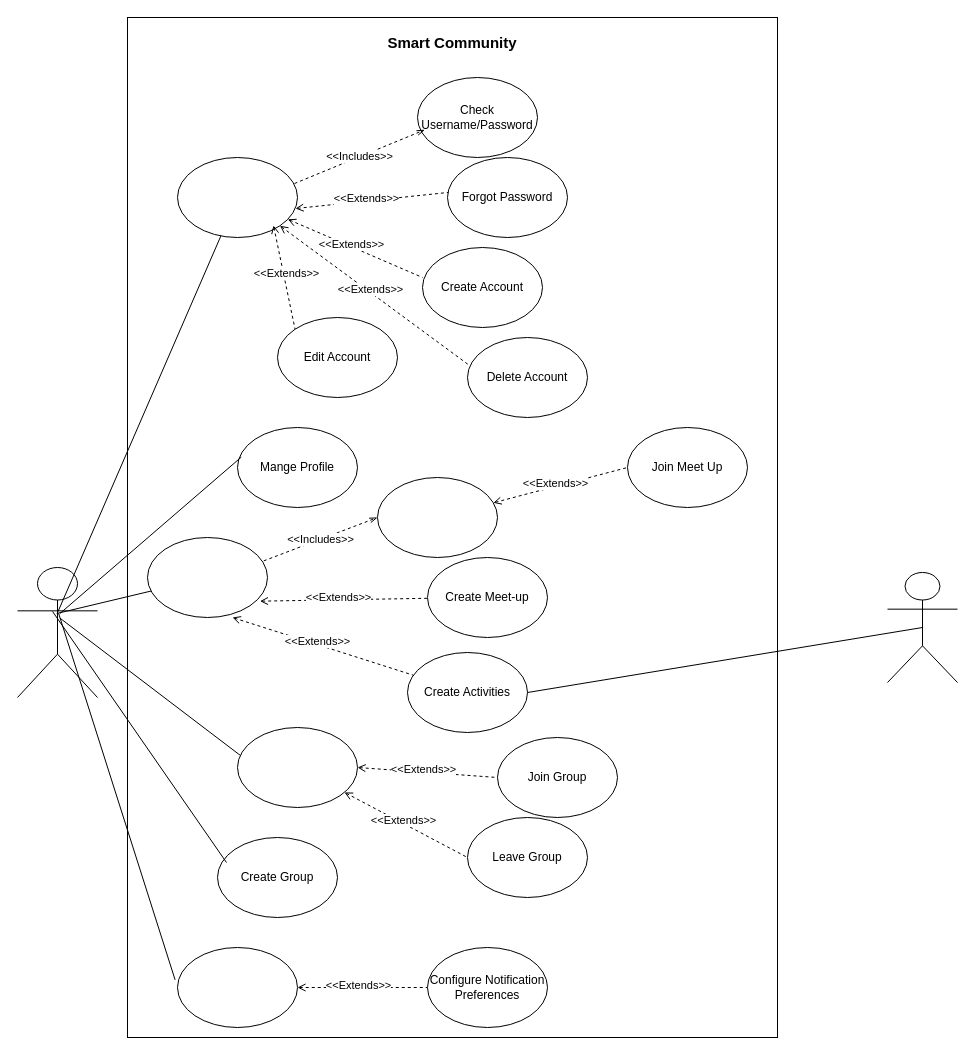
This 975x1055 diagram has some shape labels left out. The centre of each missing label's shape, as x and y in pixels:
Administrator: pixel 922 627
Explore Facilities: pixel 207 577
Explore Meet Up: pixel 437 517
Log In: pixel 237 197
Receive Notifications: pixel 237 987
User: pixel 57 632
View Interest Gropups: pixel 297 767
